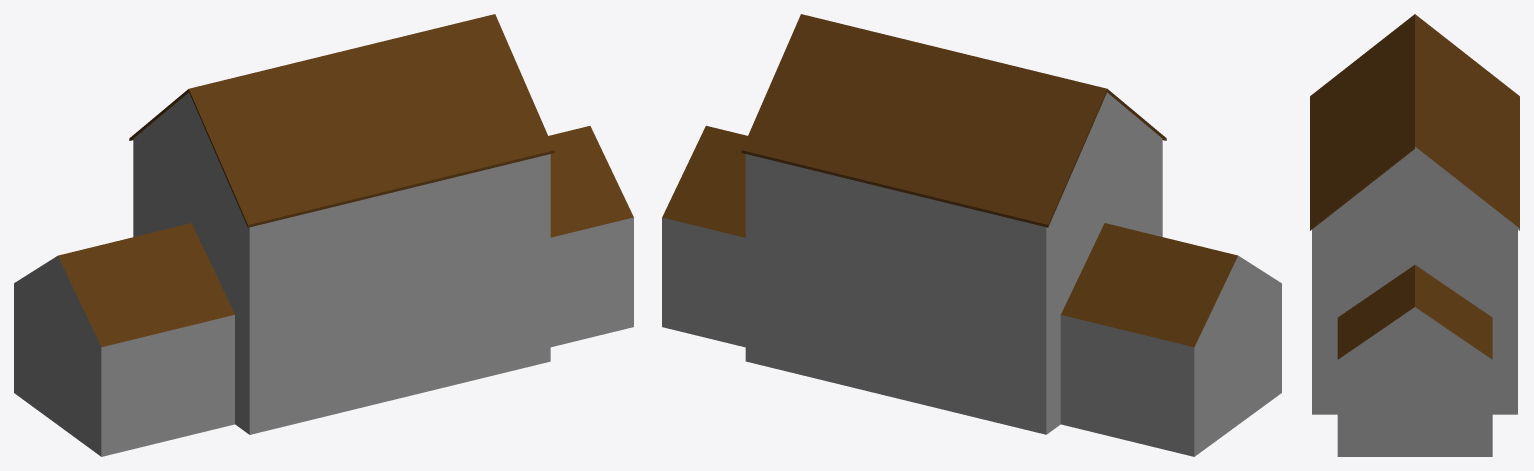
The model's file is HouseBig.fbx.
3 views of the same model, side by side, from view 1: azimuth 30°, elevation 25°; view 2: azimuth 150°, elevation 25°; view 3: azimuth 270°, elevation 25° (orthographic). The views are drawn at different scales.
Parts seen in each view (by area): view 1: Cube; view 2: Cube; view 3: Cube.
Boxes of the visible parts, box(x1,y1,x2,y2) form: Cube: box(14, 14, 633, 456); Cube: box(662, 14, 1281, 456); Cube: box(1310, 14, 1519, 456).
Size of the model in its own units: 756 by 413 by 291.
